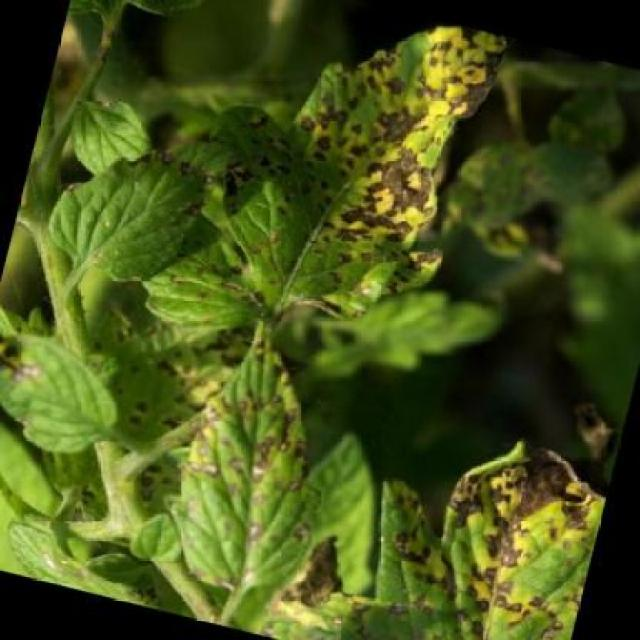Septoria leaf spot: (193, 0, 524, 342), (276, 412, 610, 639), (153, 308, 362, 614)
